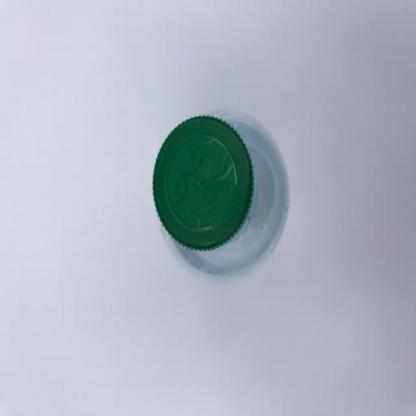trash: (147, 112, 294, 279)
